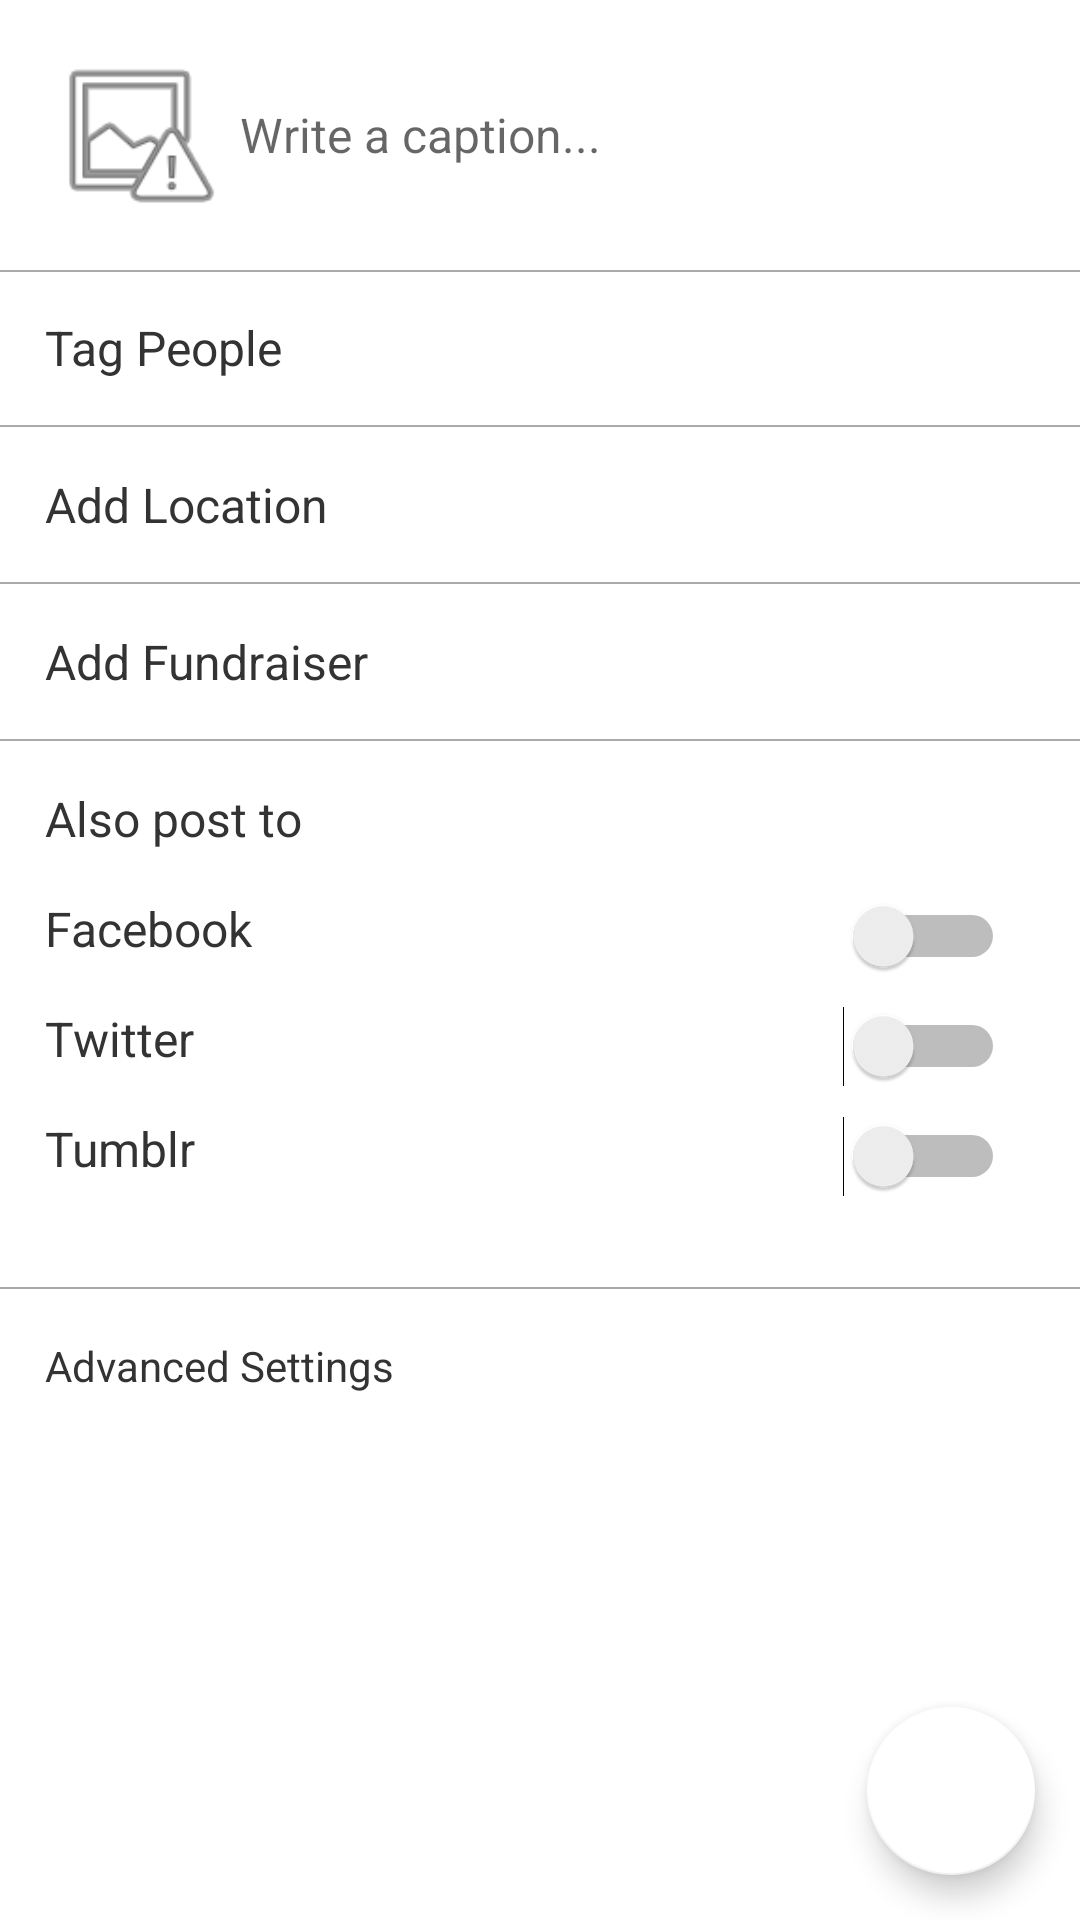

Icon click points for this 1080*1920 phone screenshot, format (x=x, y=y):
report: (x=141, y=136)
